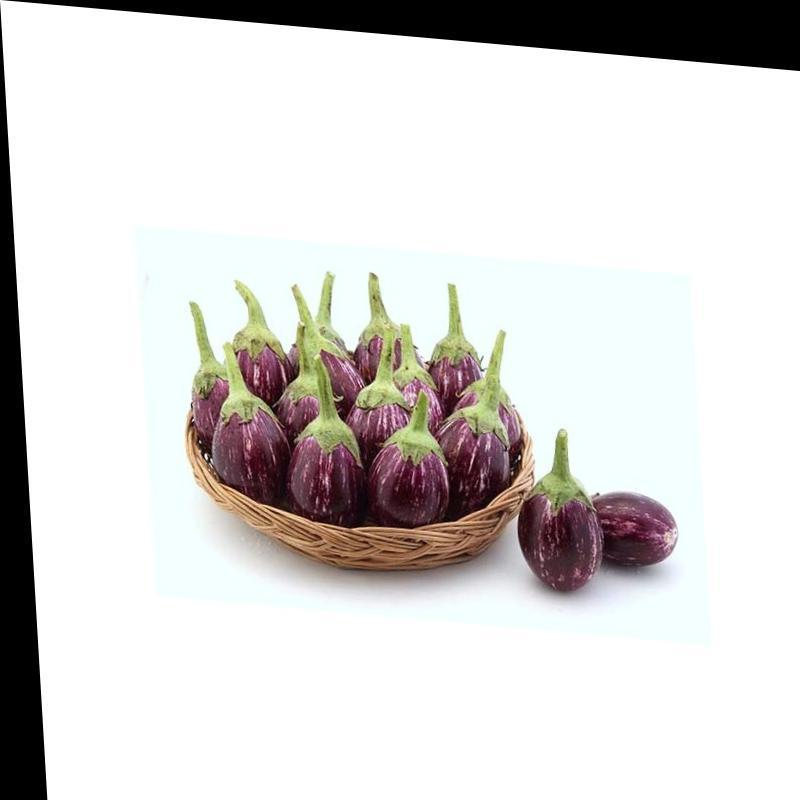eggplant: (148, 276, 518, 526), (514, 414, 675, 580)
